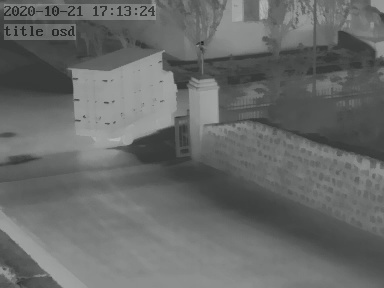vehicle: (69, 43, 179, 146)
